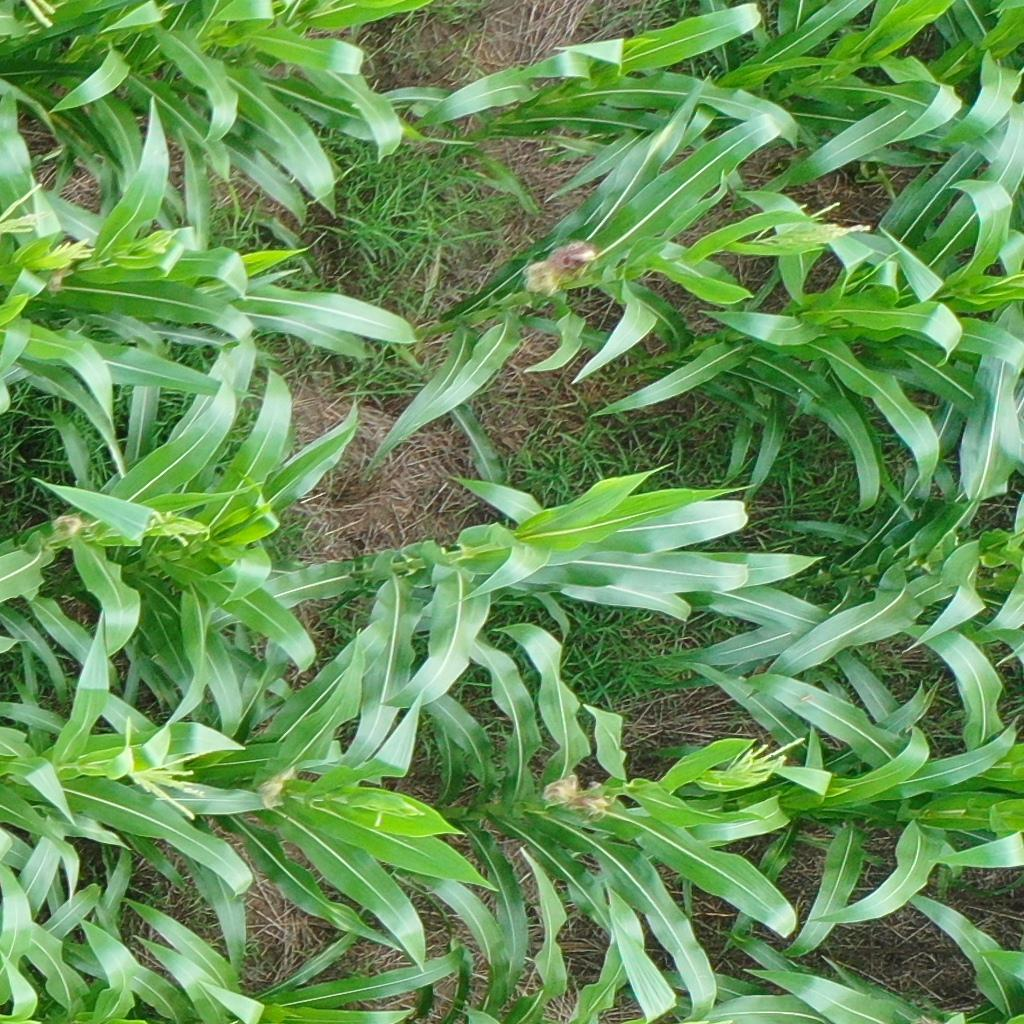Tassel: (118, 713, 212, 821), (753, 196, 874, 257), (728, 734, 805, 782), (1, 179, 43, 238), (140, 505, 196, 549), (40, 236, 100, 267), (142, 232, 175, 254)
